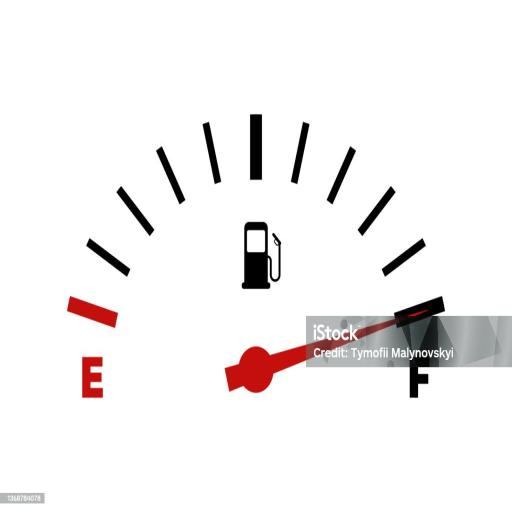empty: (79, 356, 108, 402)
fuel_icon: (237, 223, 283, 288)
full: (406, 356, 430, 400)
guage_area: (64, 102, 466, 409)
needle_center: (236, 339, 276, 400)
needle_tip: (414, 304, 432, 328)
